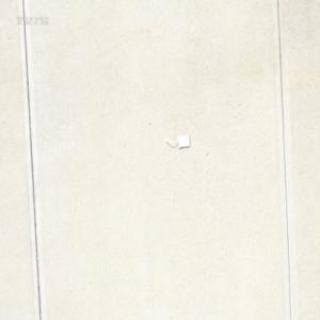LuggageTagtrack_idkeyframe: (163, 132, 190, 149)
